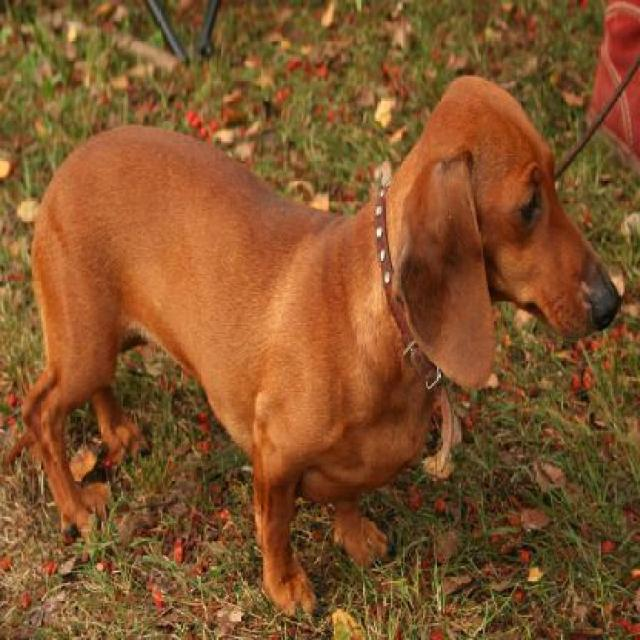Dog: (26, 68, 620, 620)
